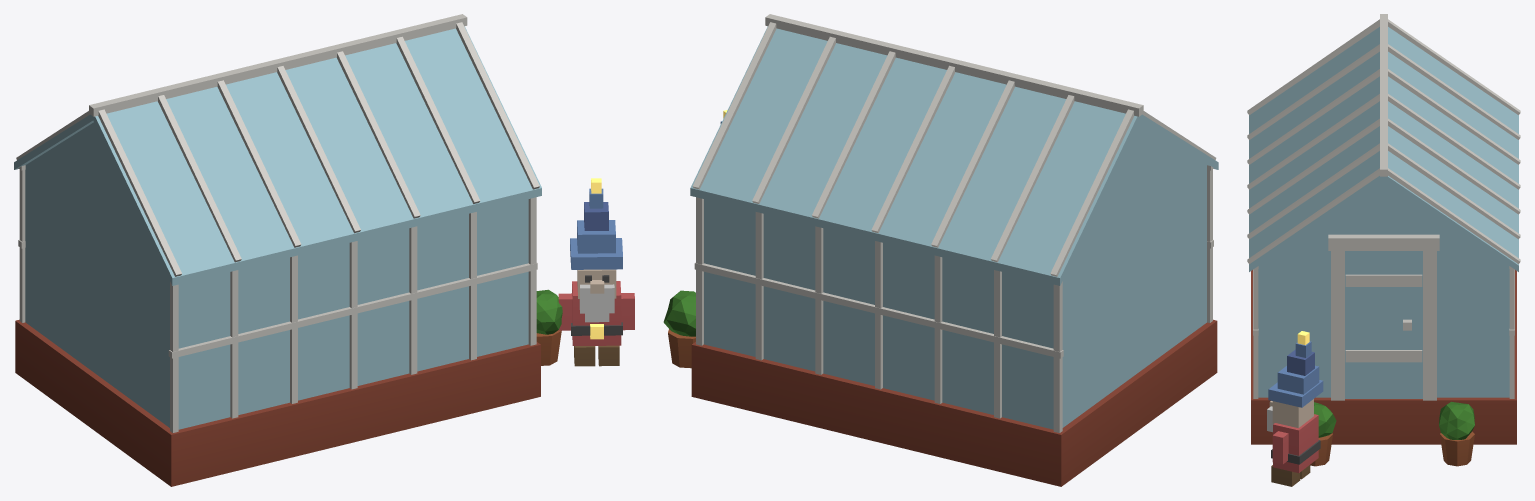
The model's file is greenhouse-gnome.glb.
3 renders of one model, left to right at view 1: azimuth 30°, elevation 25°; view 2: azimuth 150°, elevation 25°; view 3: azimuth 270°, elevation 25°, orthographic. The views are drawn at different scales.
Parts seen in each view (by area): view 1: greenhouse-gnome_body; view 2: greenhouse-gnome_body; view 3: greenhouse-gnome_body.
Boxes of the visible parts, bbox=[...] form: greenhouse-gnome_body: bbox=[14, 14, 634, 486]; greenhouse-gnome_body: bbox=[663, 14, 1218, 486]; greenhouse-gnome_body: bbox=[1247, 14, 1520, 486].
Bounding box in the file's own units: 9.4 × 6 × 5.38.
